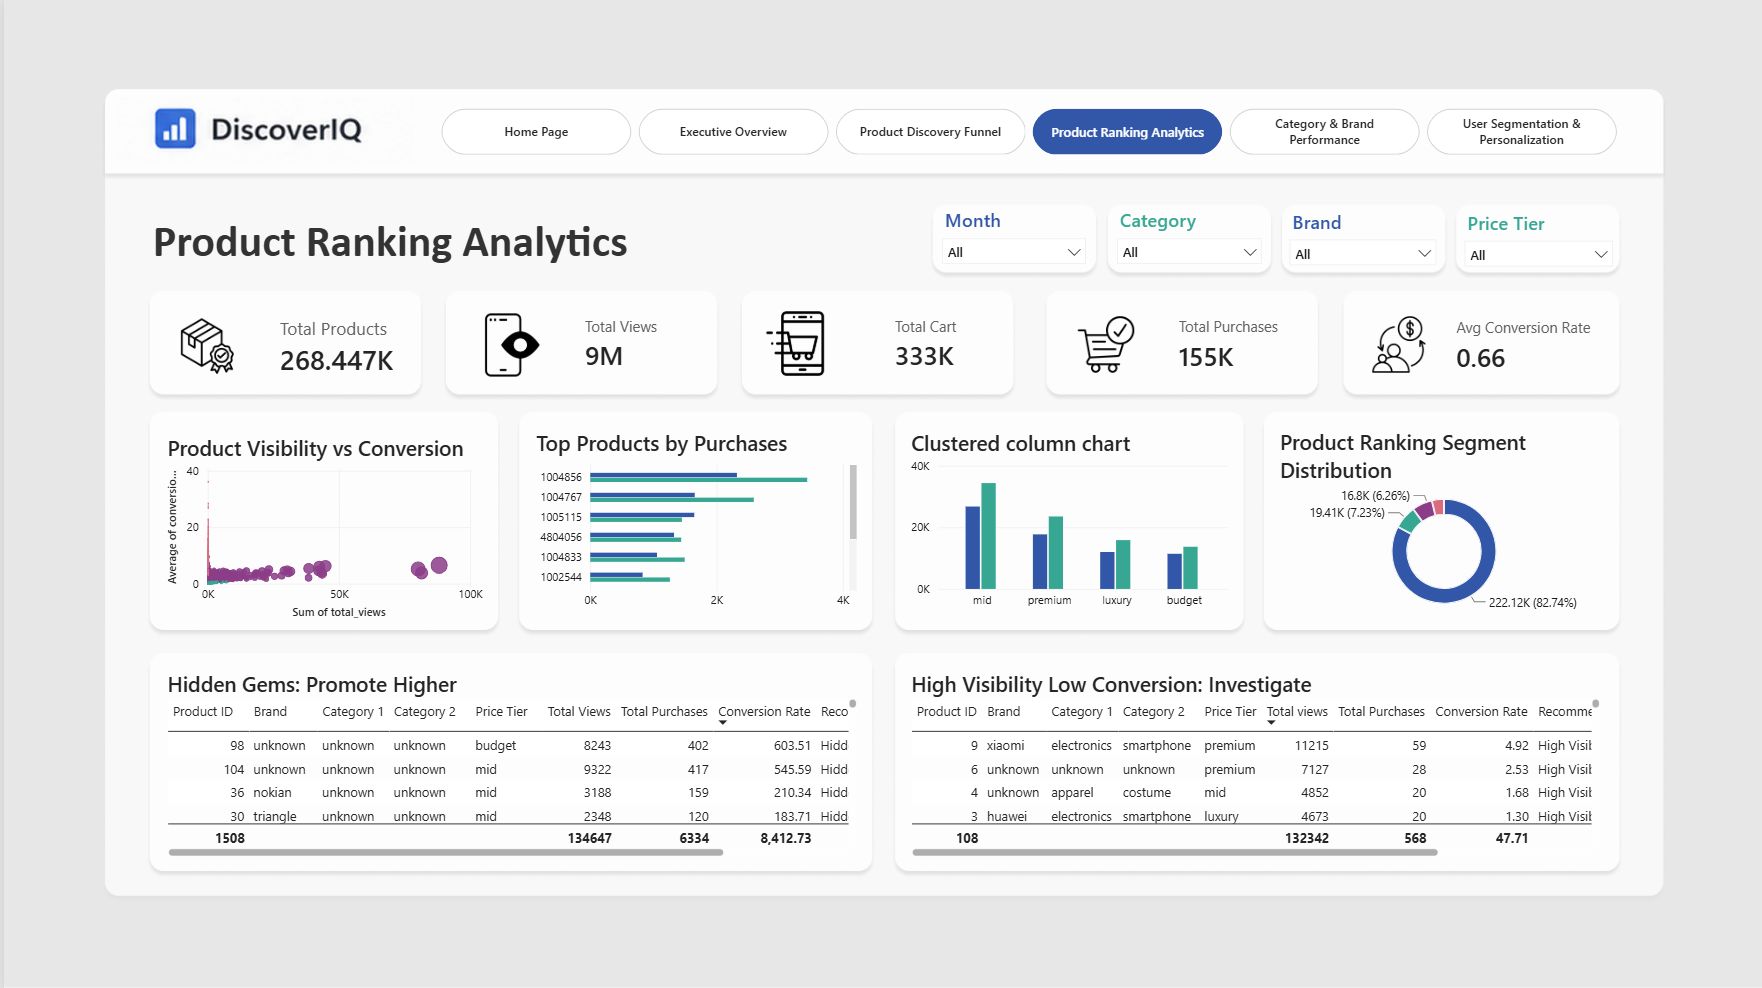

The dashboard page shown, as its layout file describes it:
{"tool":"powerbi","page":{"name":"Product Ranking Analytics","canvas":[1920,1080],"ordinal":3},"visuals":[{"type":"slicer","fields":{"Values":["Dim_Month.month"]},"box":[1018.3,226.7,166.7,70],"z":0},{"type":"slicer","fields":{"Values":["bi_product_ranking.category_l1"]},"box":[1208.9,226.1,167.8,72.2],"z":1000},{"type":"slicer","fields":{"Values":["bi_product_ranking.brand"]},"box":[1397.2,227.2,170,70],"z":2000},{"type":"slicer","fields":{"Values":["bi_product_ranking.price_tier"]},"box":[1588.3,229.4,171.7,64.4],"z":3000},{"type":"cardVisual","fields":{"Data":["CountNonNull(bi_product_ranking.product_id)"]},"box":[289.2,330.8,152.5,94.2],"z":4000},{"type":"cardVisual","fields":{"Data":["Sum(bi_product_ranking.total_views)"]},"box":[622.3,331.5,122.3,87.7],"z":5000},{"type":"cardVisual","fields":{"Data":["Sum(bi_product_ranking.total_carts)"]},"box":[960,335.7,100,78.6],"z":6000},{"type":"cardVisual","fields":{"Data":["Sum(bi_product_ranking.total_purchases)"]},"box":[1269.2,330,163.3,90],"z":7000},{"type":"cardVisual","fields":{"Data":["Avg(bi_product_ranking.conversion_rate)"]},"box":[1571.7,330.8,185,90],"z":8000},{"type":"scatterChart","title":"Product Visibility vs Conversion","fields":{"X":["Sum(bi_product_ranking_classification.total_views)"],"Y":["Avg(bi_product_ranking_classification.conversion_rate)"],"Size":["Sum(bi_product_ranking_classification.total_purchases)"],"Series":["bi_product_ranking_classification.product_ranking_segment"],"Category":["bi_product_ranking_classification.product_id"]},"box":[162.5,457.5,376.2,232.5],"z":9000},{"type":"donutChart","title":"Product Ranking Segment Distribution","fields":{"Y":["CountNonNull(bi_product_ranking_classification.product_id)"],"Category":["bi_product_ranking_classification.product_ranking_segment"]},"box":[1376.2,450.8,390,239.2],"z":10000},{"type":"tableEx","title":"Hidden Gems: Promote Higher","fields":{"Values":["CountNonNull(bi_hidden_gems.product_id)","bi_hidden_gems.brand","bi_hidden_gems.category_l1","bi_hidden_gems.category_l2","bi_hidden_gems.price_tier","Sum(bi_hidden_gems.total_views)","Sum(bi_hidden_gems.total_purchases)","Sum(bi_hidden_gems.conversion_rate)","bi_hidden_gems.recommendation"]},"box":[162.3,715.4,783.8,234.6],"z":11000},{"type":"clusteredColumnChart","title":"Clustered column chart","fields":{"Category":["bi_product_ranking.price_tier"],"Y":["Sum(bi_product_ranking.total_purchases)"],"Series":["bi_product_ranking.month"]},"box":[973.1,452.3,377.7,230.8],"z":12000},{"type":"clusteredBarChart","title":"Top Products by Purchases","fields":{"Y":["Sum(bi_product_ranking.total_purchases)"],"Series":["bi_product_ranking.month"],"Category":["bi_product_ranking.product_id"]},"box":[564.6,452.3,381.5,231.5],"z":13000},{"type":"tableEx","title":"High Visibility Low Conversion: Investigate","fields":{"Values":["CountNonNull(bi_high_visibility_low_conversion.product_id)","bi_high_visibility_low_conversion.brand","bi_high_visibility_low_conversion.category_l1","bi_high_visibility_low_conversion.category_l2","bi_high_visibility_low_conversion.price_tier","Sum(bi_high_visibility_low_conversion.total_views)","Sum(bi_high_visibility_low_conversion.total_purchases)","Sum(bi_high_visibility_low_conversion.conversion_rate)","bi_high_visibility_low_conversion.recommendation"]},"box":[973.1,715.4,783.1,234.6],"z":14000},{"type":"textbox","box":[162.2,233.3,543.3,62.2],"z":15000},{"type":"image","box":[180.8,346.9,80.8,62.3],"z":16000},{"type":"image","box":[506.9,339.2,94.6,73.8],"z":17000},{"type":"image","box":[822.3,339.2,81.5,70],"z":18000},{"type":"image","box":[1162.3,344.6,80.8,61.5],"z":19000},{"type":"image","box":[1481.5,344.6,81.5,61.5],"z":20000},{"type":"pageNavigator","box":[476.7,118.3,1285,50],"z":21000}]}

Visuals, with their boxes in screenshot pixels (x1, y1, x2, y2), scaled from the page's 1920x1080 canvas onto the 1762x988 screenshot:
slicer - Dim_Month.month: (x1=935, y1=207, x2=1087, y2=271)
slicer - bi_product_ranking.category_l1: (x1=1109, y1=207, x2=1263, y2=273)
slicer - bi_product_ranking.brand: (x1=1282, y1=208, x2=1438, y2=272)
slicer - bi_product_ranking.price_tier: (x1=1458, y1=210, x2=1615, y2=269)
cardVisual - CountNonNull(bi_product_ranking.product_id): (x1=265, y1=303, x2=405, y2=389)
cardVisual - Sum(bi_product_ranking.total_views): (x1=571, y1=303, x2=683, y2=383)
cardVisual - Sum(bi_product_ranking.total_carts): (x1=881, y1=307, x2=973, y2=379)
cardVisual - Sum(bi_product_ranking.total_purchases): (x1=1165, y1=302, x2=1315, y2=384)
cardVisual - Avg(bi_product_ranking.conversion_rate): (x1=1442, y1=303, x2=1612, y2=385)
"Product Visibility vs Conversion" scatterChart: (x1=149, y1=419, x2=494, y2=631)
"Product Ranking Segment Distribution" donutChart: (x1=1263, y1=412, x2=1621, y2=631)
"Hidden Gems: Promote Higher" tableEx: (x1=149, y1=654, x2=868, y2=869)
"Clustered column chart" clusteredColumnChart: (x1=893, y1=414, x2=1240, y2=625)
"Top Products by Purchases" clusteredBarChart: (x1=518, y1=414, x2=868, y2=626)
"High Visibility Low Conversion: Investigate" tableEx: (x1=893, y1=654, x2=1612, y2=869)
textbox: (x1=149, y1=213, x2=647, y2=270)
image: (x1=166, y1=317, x2=240, y2=374)
image: (x1=465, y1=310, x2=552, y2=378)
image: (x1=755, y1=310, x2=829, y2=374)
image: (x1=1067, y1=315, x2=1141, y2=372)
image: (x1=1360, y1=315, x2=1434, y2=372)
pageNavigator: (x1=437, y1=108, x2=1617, y2=154)
